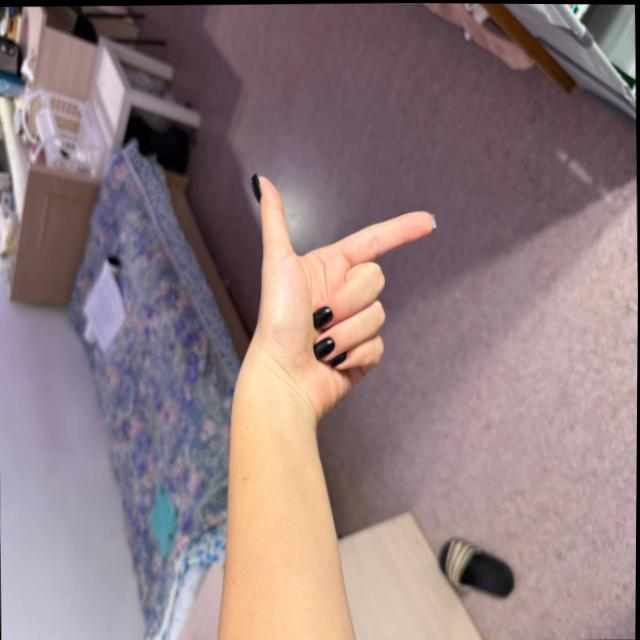g: (243, 146, 442, 401)
